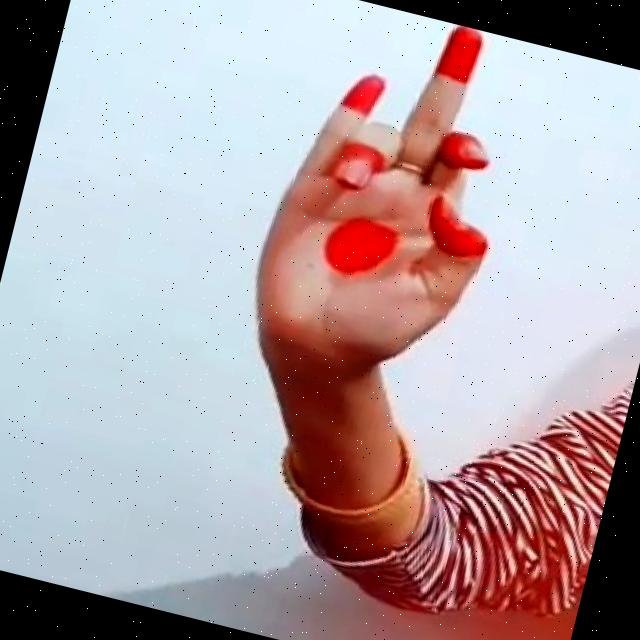Shukatunda: (234, 0, 551, 390)
bangle: (236, 395, 462, 546)
